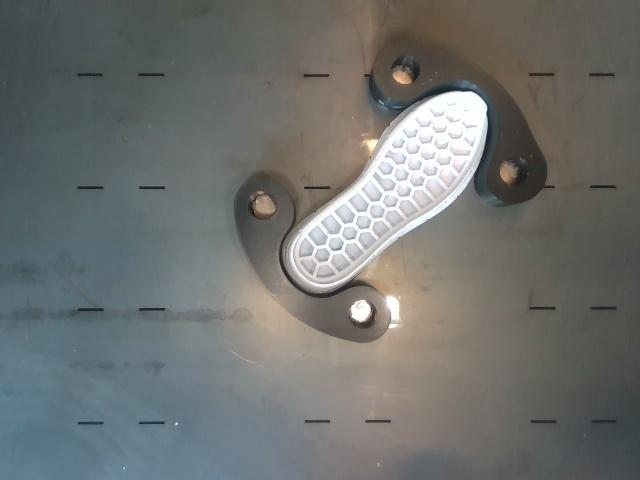shoes: (293, 92, 487, 285)
